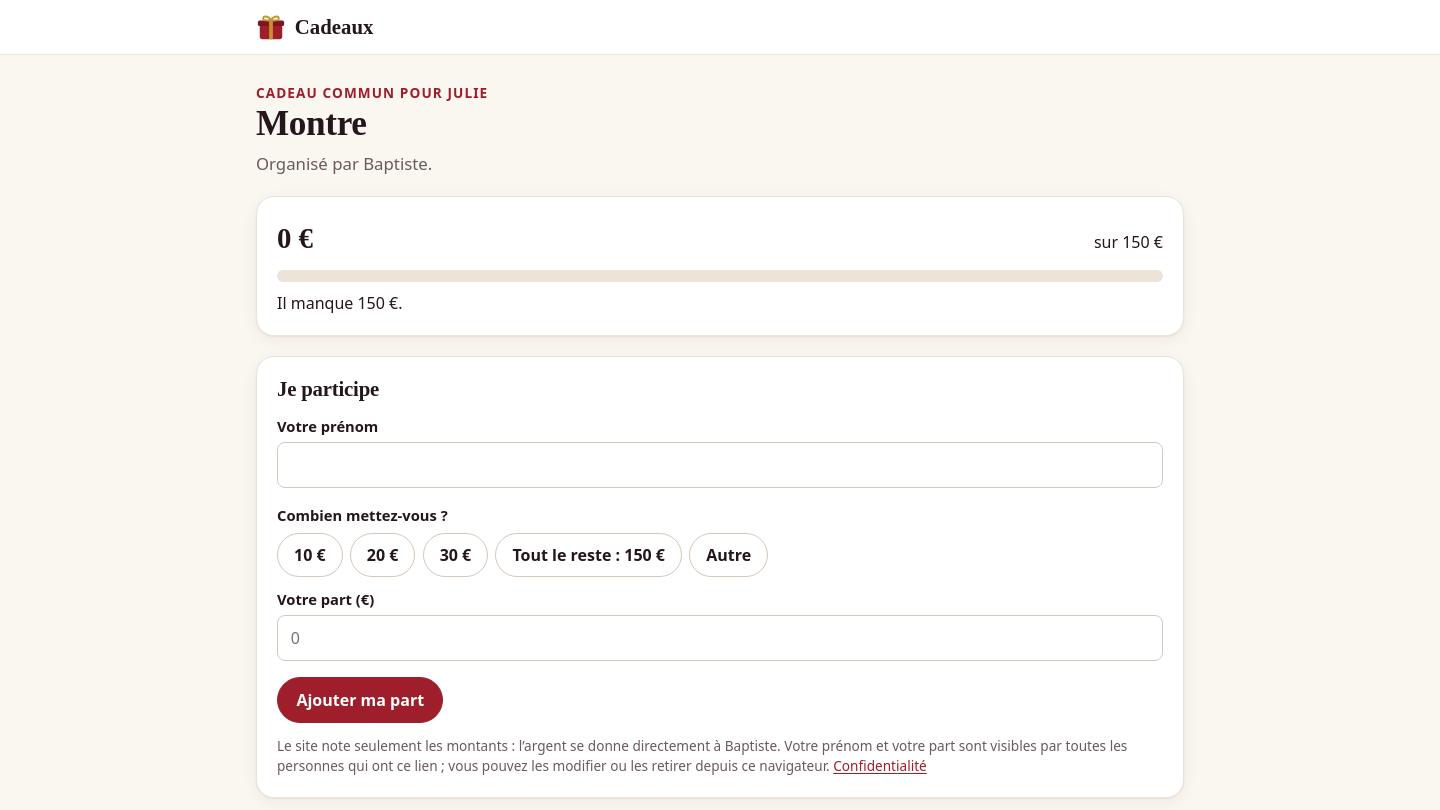
it: liens partagés, sans compte › cagnotte : un ami ajoute sa part, puis peut la modifier
Expected: the heading "Montre" is shown, [256,104,367,143]
Step 1. Type "Tom" into the field labelled "Votre prénom" → (720, 465), box [277,442,1163,488]
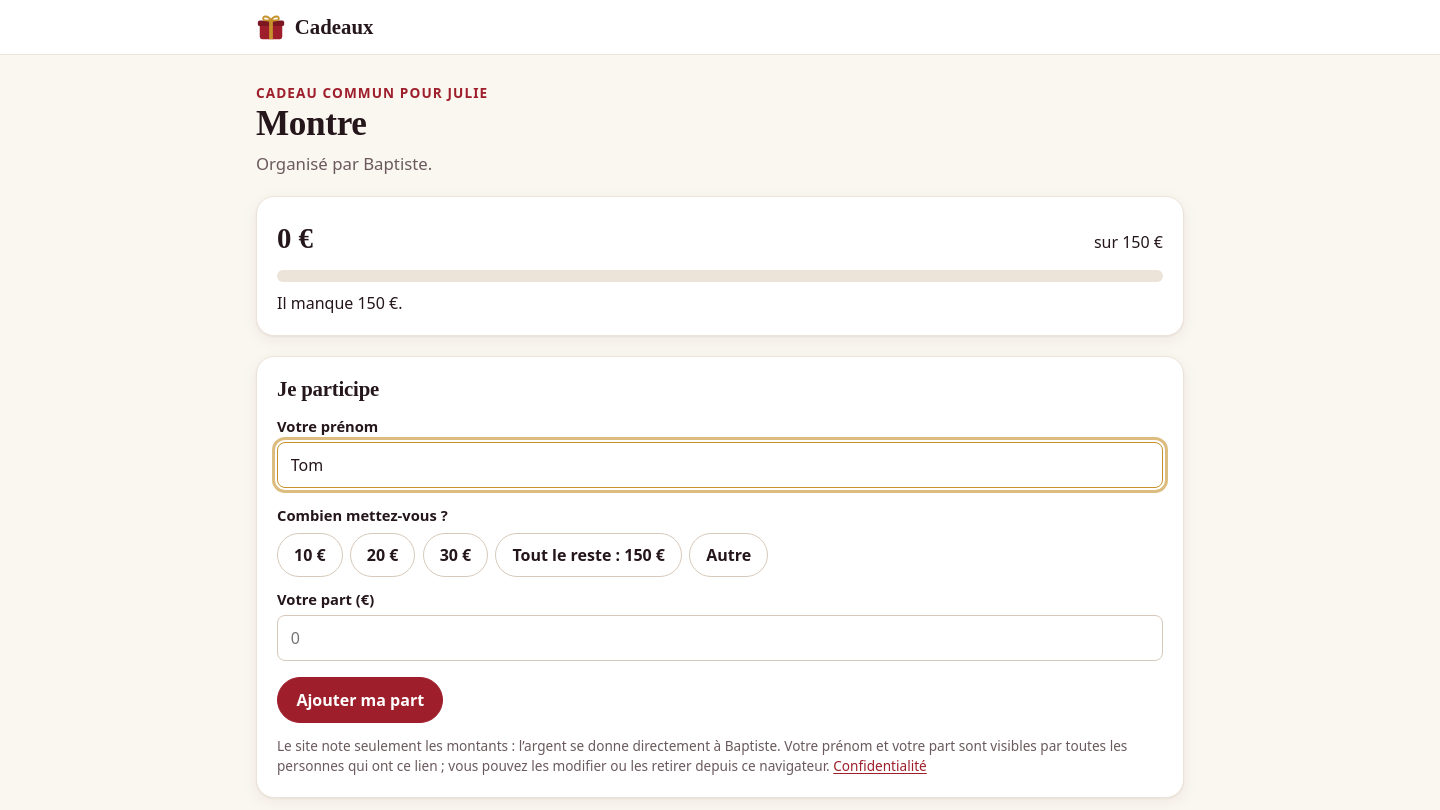
Step 2. Click the button named "20 €" → (383, 555), box [350,533,415,577]
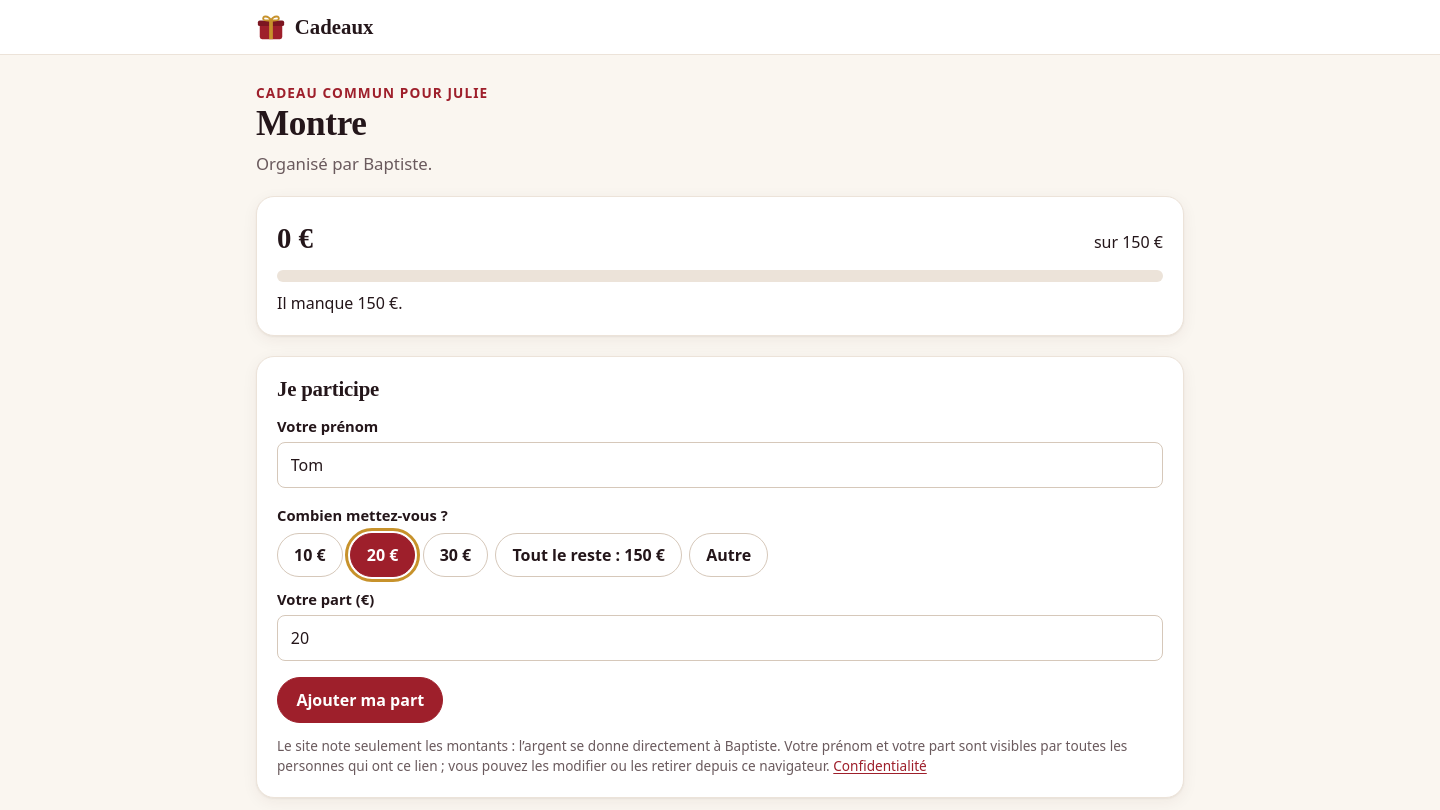
Expected: the field labelled "Votre part (€)" holds "20", [277,615,1163,661]
Step 3. Click the button "Ajouter ma part" → (360, 700), box [277,677,444,723]
(page scrolled)
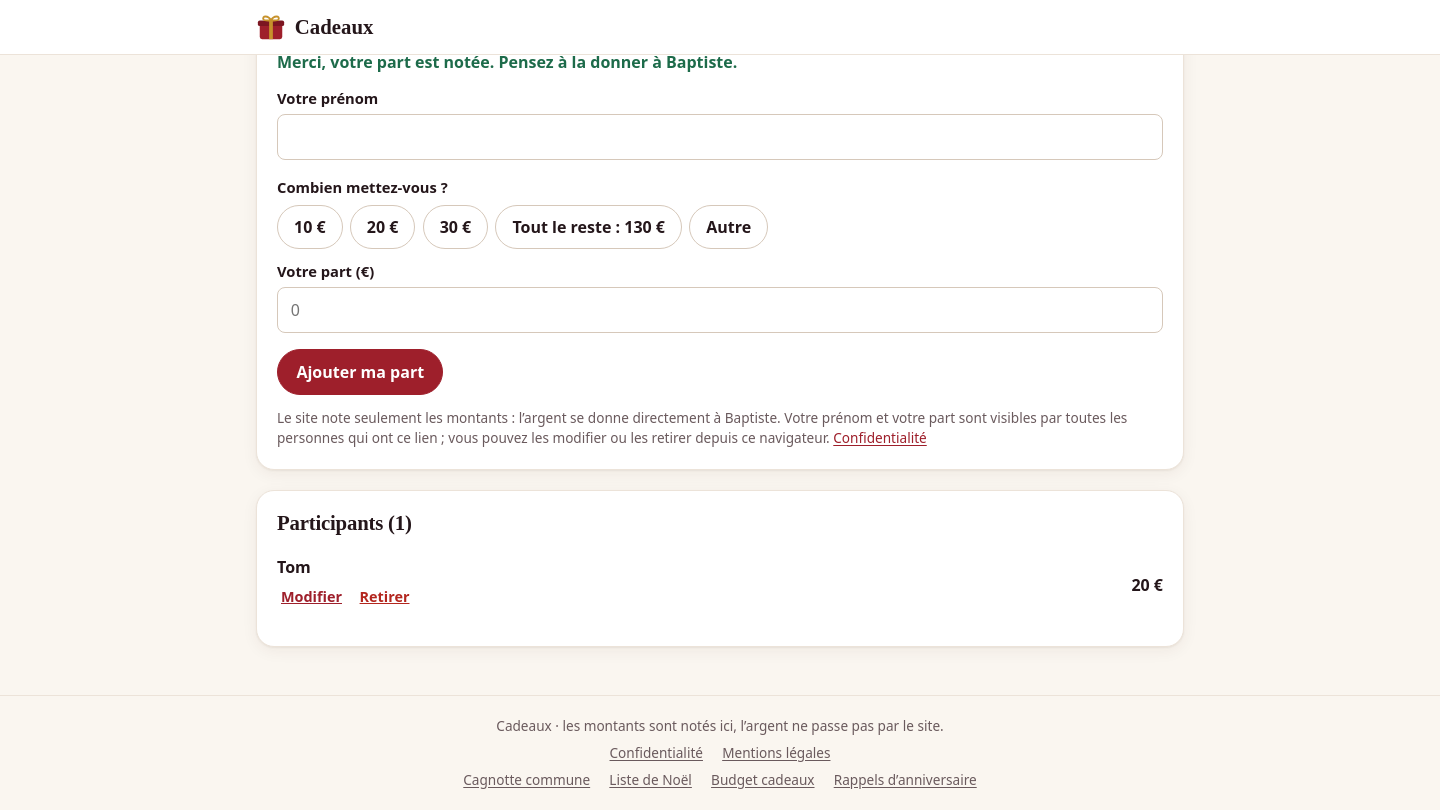
Expected: the text "Merci, votre part est notée. Pensez à la donner à Baptiste." is shown, [277,51,737,73]
Expected: the button "Modifier" is shown, [277,579,346,615]
